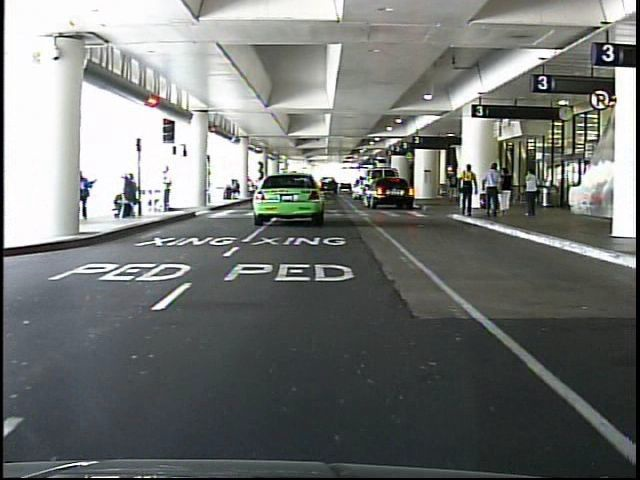person: (456, 161, 481, 225), (520, 164, 547, 223), (481, 162, 502, 219), (159, 166, 180, 217), (498, 166, 514, 222), (448, 168, 460, 205)
